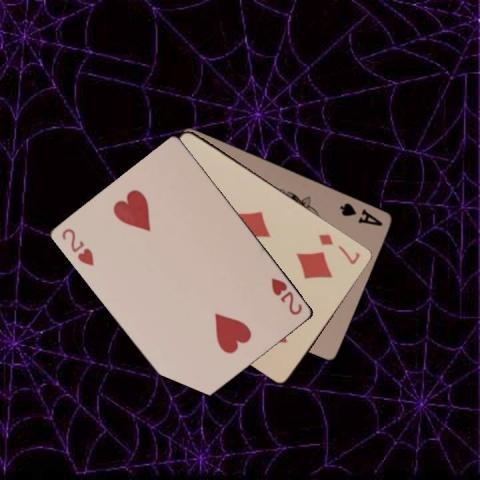2h: (59, 225, 96, 268), (269, 274, 304, 316)
7d: (316, 231, 361, 266)
As: (337, 199, 385, 228)
